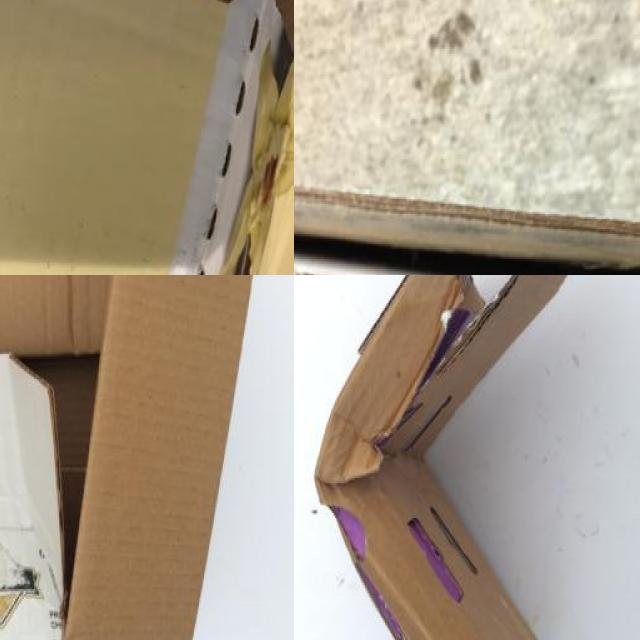class_name: (301, 275, 618, 640), (0, 275, 279, 640), (294, 0, 640, 275), (0, 0, 294, 275)
